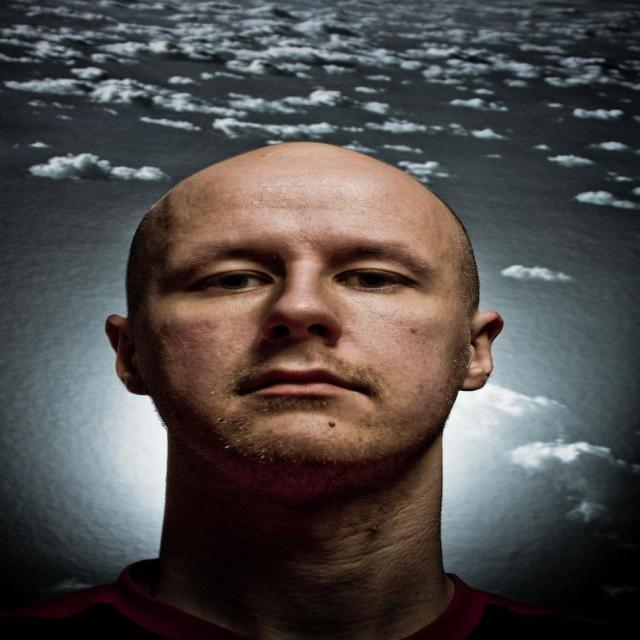no-glass: (198, 266, 410, 295)
